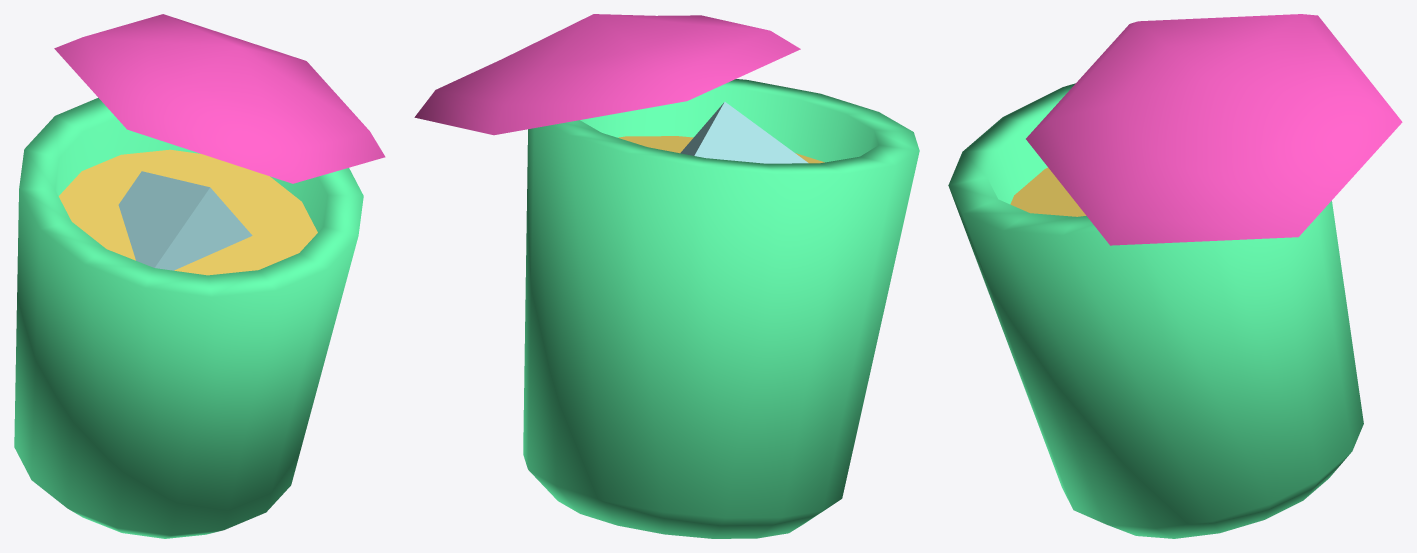
File: vaso.glb
3 renders of one model, left to right at view 1: azimuth 30°, elevation 25°; view 2: azimuth 150°, elevation 25°; view 3: azimuth 270°, elevation 25°, orthographic. The views are drawn at different scales.
Visible parts, largest first — view 1: Vaso; view 2: Vaso; view 3: Vaso.
Boxes of the visible parts, left/top/right/bottom form: Vaso: left=14, top=14, right=385, bottom=538; Vaso: left=414, top=14, right=919, bottom=538; Vaso: left=948, top=14, right=1402, bottom=538.
Size of the model in its own units: 0.3743 by 0.4494 by 0.3885.
